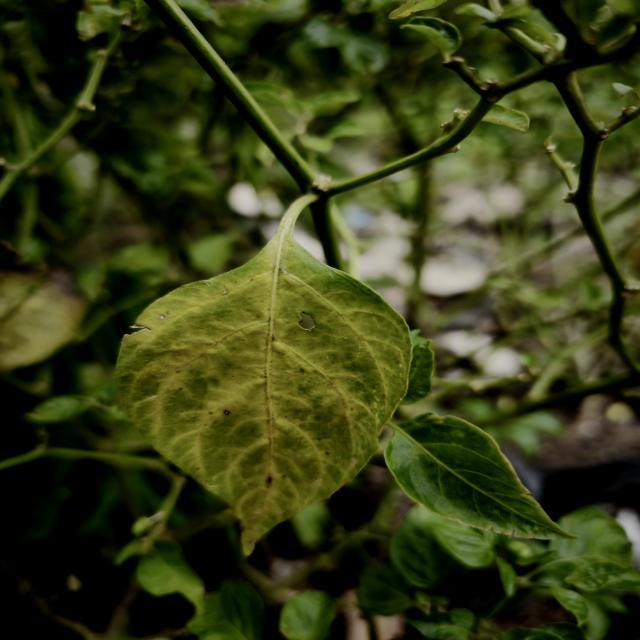Daun Cabai Sehat: (388, 410, 580, 544)
Virus Kuning: (113, 229, 414, 556)
